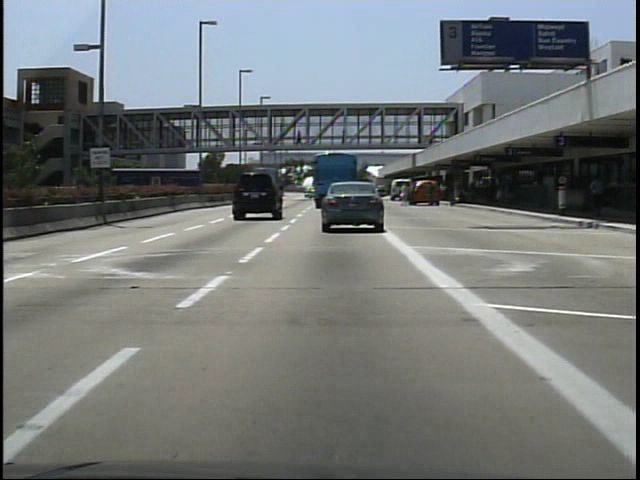person: (587, 171, 607, 218), (426, 178, 443, 211), (396, 180, 414, 209), (338, 128, 351, 152), (294, 126, 307, 146)
